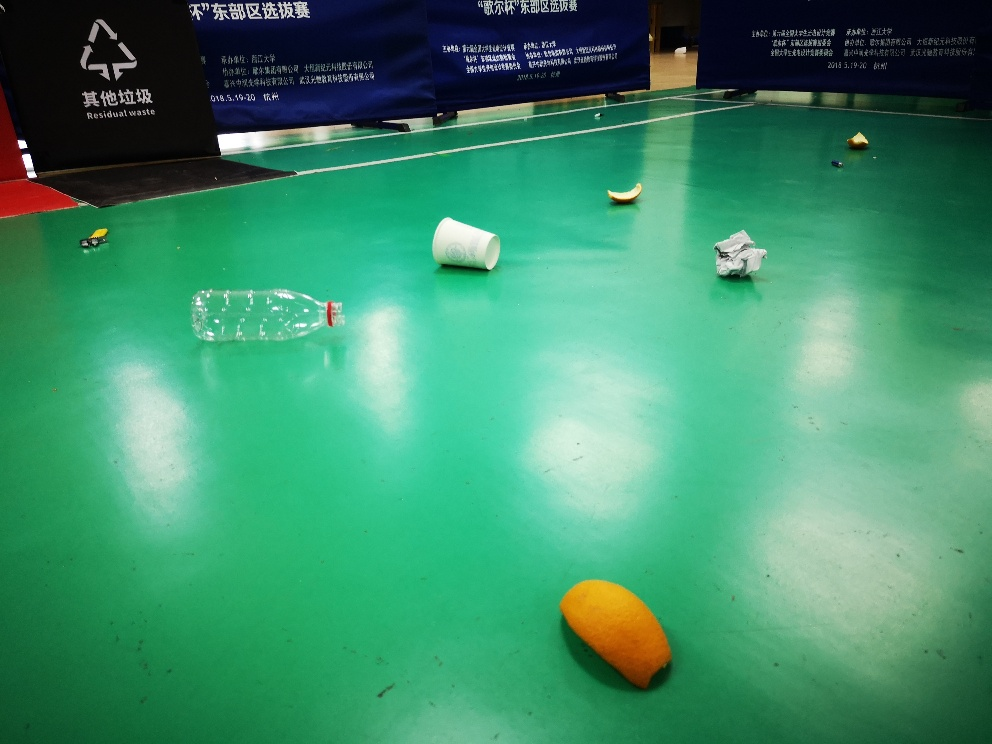battery: (825, 152, 850, 175)
bottle: (185, 281, 346, 351)
orangepeel: (557, 574, 677, 690), (604, 178, 645, 202), (840, 126, 876, 152)
papercup: (428, 215, 503, 272)
spitball: (711, 230, 770, 286)
